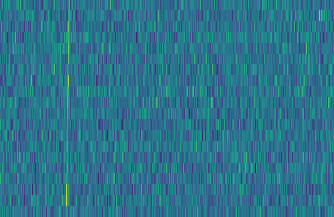signal: (59, 0, 70, 217)
